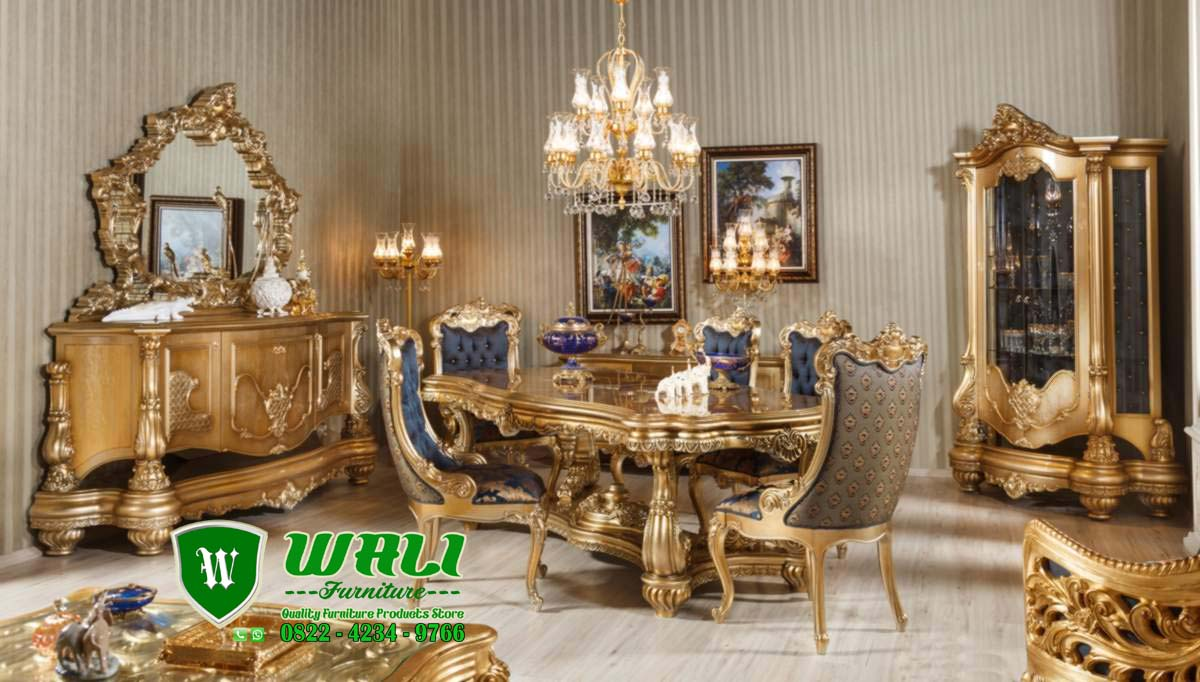Carving Chair: (737, 325, 934, 658)
Carving Table: (436, 360, 859, 620)
